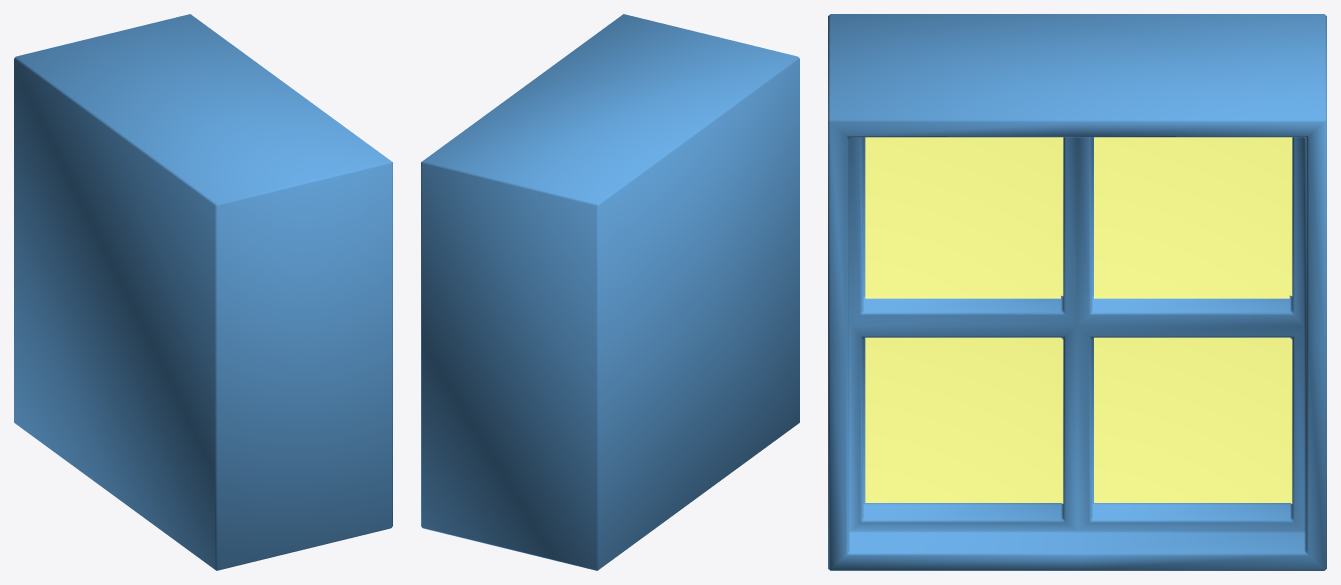
File: window.glb
3 renders of one model, left to right at view 1: azimuth 30°, elevation 25°; view 2: azimuth 150°, elevation 25°; view 3: azimuth 270°, elevation 25°, orthographic. The views are drawn at different scales.
Parts seen in each view (by area): view 1: window; view 2: window; view 3: window.
Part boxes in pixels (left/top/right/bottom): window: left=14, top=14, right=392, bottom=570; window: left=421, top=14, right=799, bottom=570; window: left=828, top=14, right=1326, bottom=570.
Size of the model in its own units: 0.7151 by 1.41 by 1.41.
